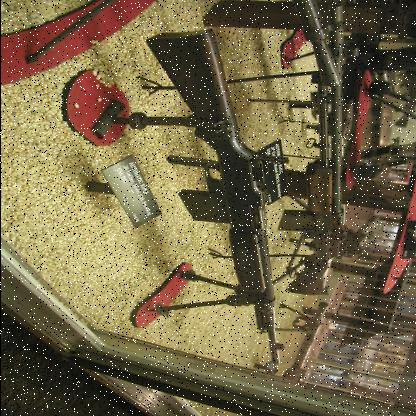rifle: (116, 24, 296, 374)
